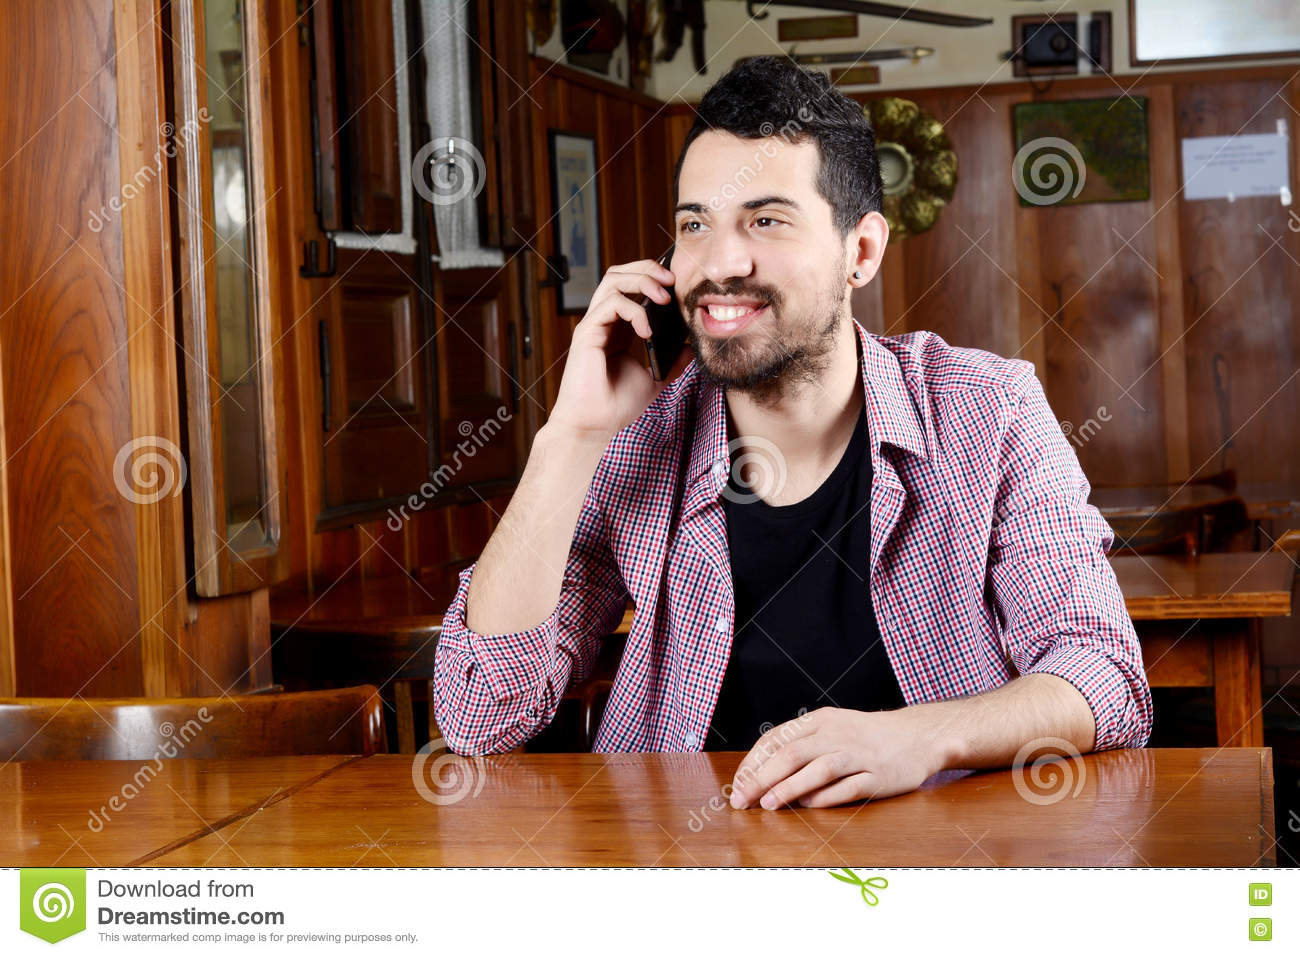phone: (633, 243, 683, 395)
talk: (558, 189, 806, 442)
